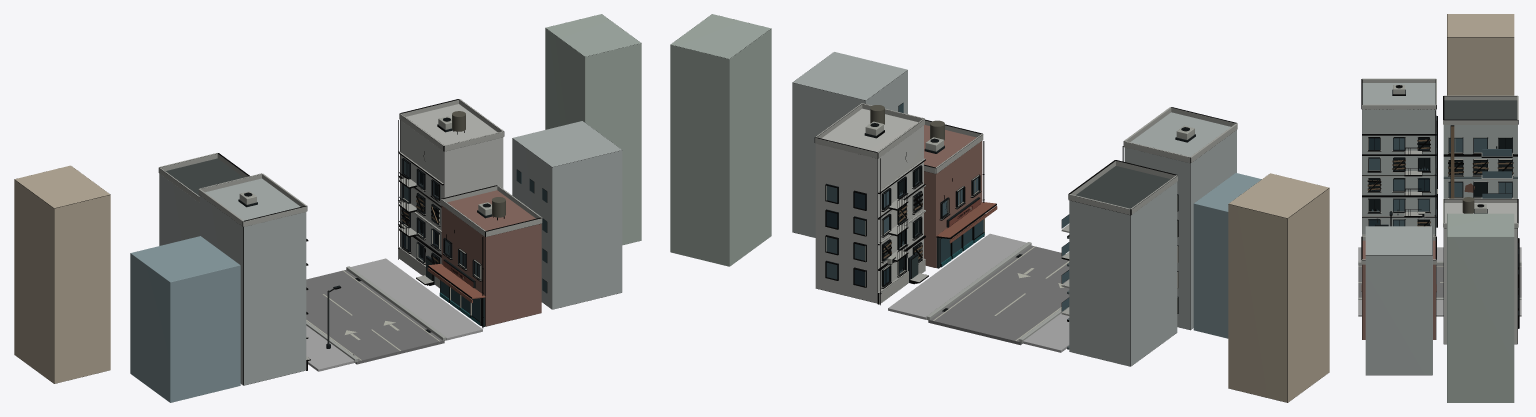
File: city_hd_08.glb
The picture shows the model from 3 angles, left to right: view 1: azimuth 30°, elevation 25°; view 2: azimuth 150°, elevation 25°; view 3: azimuth 270°, elevation 25°; orthographic projection. The views are drawn at different scales.
Visible parts, largest first — view 1: Architectural lettering, CITY_PBR_asphalt, CITY_PBR_pavement, CITY_curb; view 2: Architectural lettering, CITY_PBR_asphalt, CITY_PBR_pavement, CITY_curb, CITY_ac_paint; view 3: Architectural lettering, CITY_PBR_asphalt, CITY_PBR_pavement, CITY_ac_paint.
Boxes of the visible parts, left/top/right/bottom form: Architectural lettering: left=14, top=14, right=641, bottom=402; CITY_PBR_asphalt: left=306, top=270, right=444, bottom=364; CITY_PBR_pavement: left=306, top=258, right=482, bottom=371; CITY_curb: left=306, top=266, right=446, bottom=362; Architectural lettering: left=670, top=14, right=1329, bottom=402; CITY_PBR_asphalt: left=928, top=245, right=1069, bottom=345; CITY_PBR_pavement: left=888, top=233, right=1069, bottom=352; CITY_curb: left=926, top=242, right=1068, bottom=343; CITY_ac_paint: left=865, top=121, right=1194, bottom=264; Architectural lettering: left=1361, top=14, right=1519, bottom=402; CITY_PBR_asphalt: left=1358, top=265, right=1521, bottom=297; CITY_PBR_pavement: left=1358, top=247, right=1521, bottom=316; CITY_ac_paint: left=1393, top=85, right=1486, bottom=217.
Size of the model in its own units: 56 by 18.26 by 16.
Materials: 6 (1 with a texture image).
